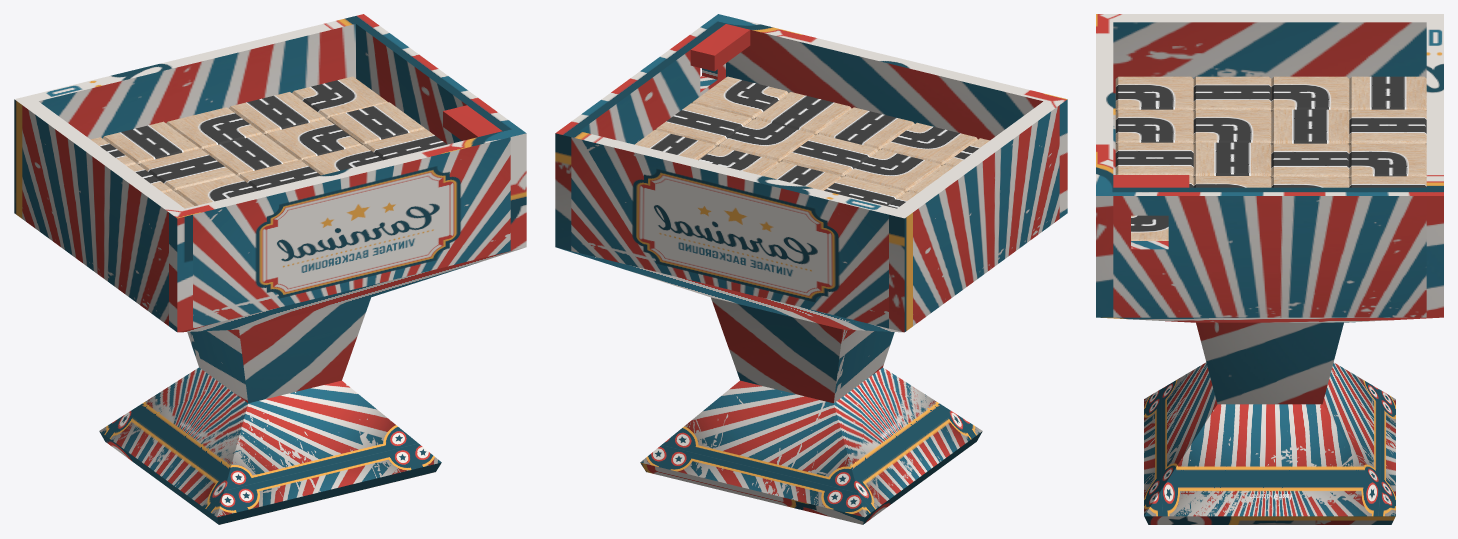
The model's file is table.fbx.
3 renders of one model, left to right at view 1: azimuth 30°, elevation 25°; view 2: azimuth 150°, elevation 25°; view 3: azimuth 270°, elevation 25°, orthographic. The views are drawn at different scales.
Parts seen in each view (by area): view 1: Cube, plane4-1, plane3-0, plane1-1, plane1-0, plane2-0, plane3-1, plane4-0, plane2-1, plane4-2, plane1-2, plane2-2 (+1 smaller); view 2: Cube, plane2-2, plane3-3, plane4-2, plane3-2, plane4-3, plane2-3, plane1-3, plane1-2, plane4-1, plane1-1, plane3-1 (+1 smaller); view 3: Cube, plane1-1, plane1-0, plane2-2, plane2-1, plane1-3, plane0-3, plane0-1, plane0-2, plane1-2, plane2-0, plane0-0 (+5 smaller).
Part boxes in pixels (<box>): Cube: <box>14,14,526,524</box>; plane4-1: <box>328,102,425,145</box>; plane3-0: <box>229,92,325,135</box>; plane1-1: <box>139,148,235,191</box>; plane1-0: <box>102,121,199,164</box>; plane2-0: <box>166,107,262,149</box>; plane3-1: <box>265,118,361,160</box>; plane4-0: <box>292,76,388,119</box>; plane2-1: <box>203,134,298,176</box>; plane4-2: <box>365,129,446,159</box>; plane1-2: <box>175,175,257,205</box>; plane2-2: <box>239,159,320,190</box>; Cube: <box>555,14,1067,524</box>; plane2-2: <box>781,134,878,177</box>; plane3-3: <box>754,92,851,135</box>; plane4-2: <box>655,103,752,147</box>; plane3-2: <box>718,119,814,162</box>; plane4-3: <box>691,76,788,119</box>; plane2-3: <box>818,107,914,150</box>; plane1-3: <box>881,122,977,165</box>; plane1-2: <box>844,149,941,192</box>; plane4-1: <box>635,130,715,160</box>; plane1-1: <box>824,176,904,205</box>; plane3-1: <box>699,146,778,175</box>; Cube: <box>1096,14,1443,524</box>; plane1-1: <box>1271,109,1349,145</box>; plane1-0: <box>1349,109,1426,145</box>; plane2-2: <box>1193,142,1271,177</box>; plane2-1: <box>1271,143,1349,178</box>; plane1-3: <box>1115,109,1193,144</box>; plane0-3: <box>1115,76,1193,111</box>; plane0-1: <box>1271,76,1349,111</box>; plane0-2: <box>1193,76,1271,111</box>; plane1-2: <box>1193,109,1271,144</box>; plane2-0: <box>1349,143,1426,177</box>; plane0-0: <box>1349,76,1426,111</box>.
Size of the model in its own units: 2.13 by 1.98 by 1.72.
3 materials, 3 textured.
